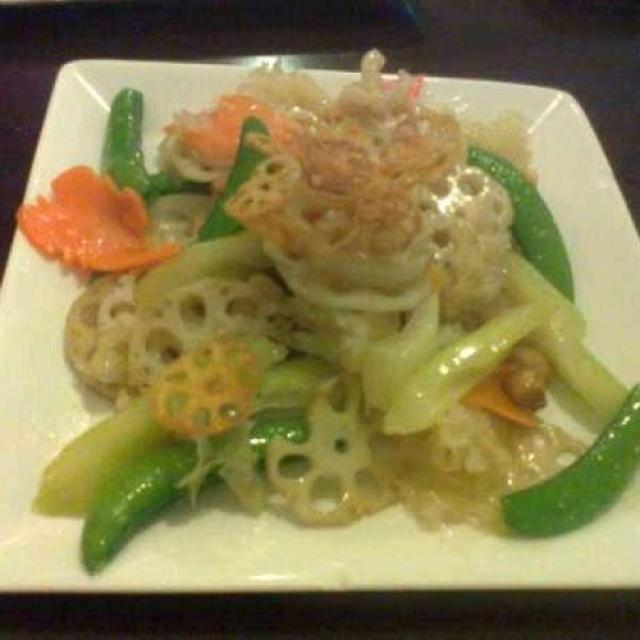蔬菜料理: (37, 48, 608, 572)
